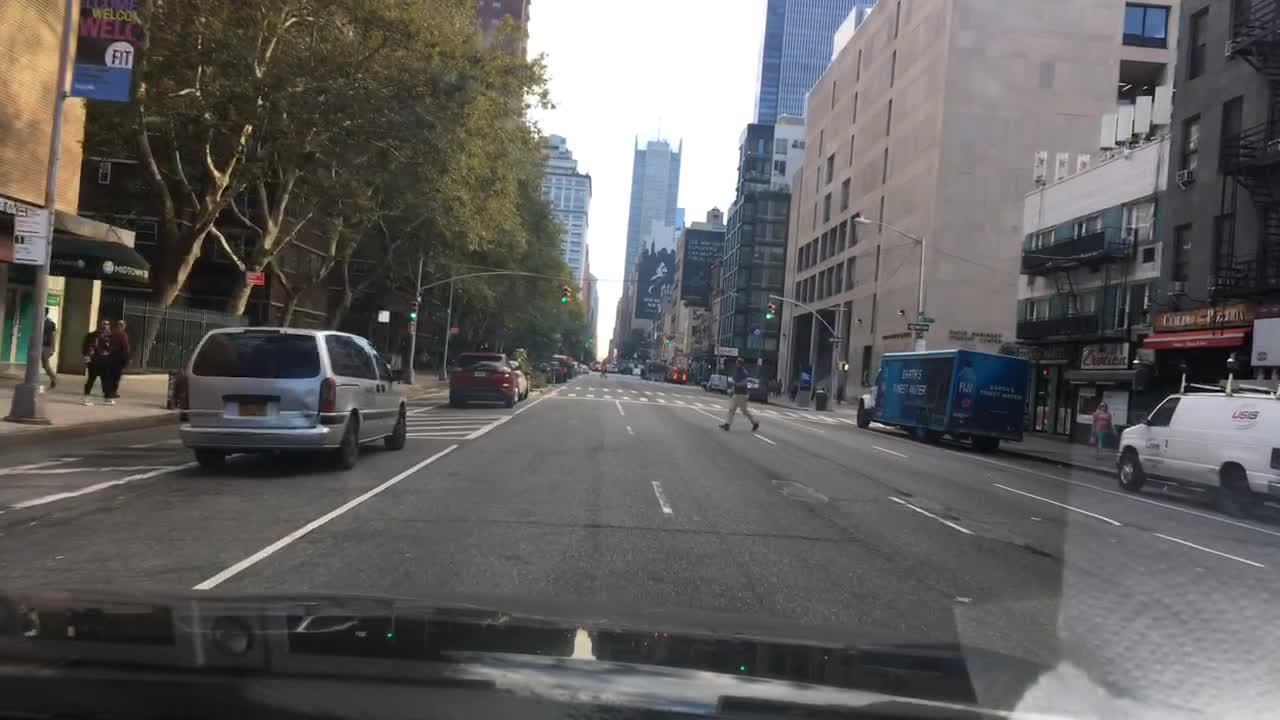car: (177, 324, 409, 471), (1114, 387, 1278, 504), (446, 350, 521, 408), (509, 360, 530, 399), (536, 358, 565, 384), (551, 352, 577, 379), (526, 361, 550, 387), (640, 359, 667, 380), (703, 373, 727, 393), (553, 359, 573, 378), (668, 366, 688, 384), (745, 375, 764, 392), (725, 377, 735, 396), (578, 363, 591, 375), (589, 359, 603, 370), (572, 360, 583, 374), (604, 363, 618, 374), (617, 365, 633, 374), (630, 366, 641, 376)
person: (717, 355, 761, 432), (79, 318, 115, 408), (107, 314, 132, 398), (38, 303, 59, 389), (1087, 399, 1115, 462), (766, 373, 778, 396), (598, 356, 610, 377), (773, 376, 784, 398)
traffic light: (763, 298, 777, 320), (407, 299, 418, 320), (559, 284, 570, 303), (833, 361, 851, 372), (586, 336, 594, 344), (664, 334, 671, 343)
traffic sign: (12, 207, 47, 266), (245, 268, 267, 287), (46, 291, 64, 309), (375, 309, 393, 322), (907, 321, 931, 330), (829, 334, 846, 343), (917, 314, 937, 321), (750, 323, 760, 334)
truck: (855, 346, 1034, 452)
